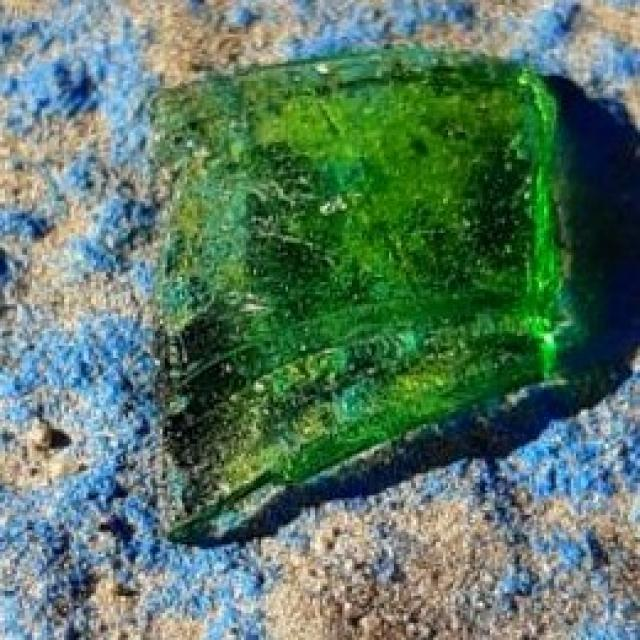Dry: (151, 53, 575, 545)
